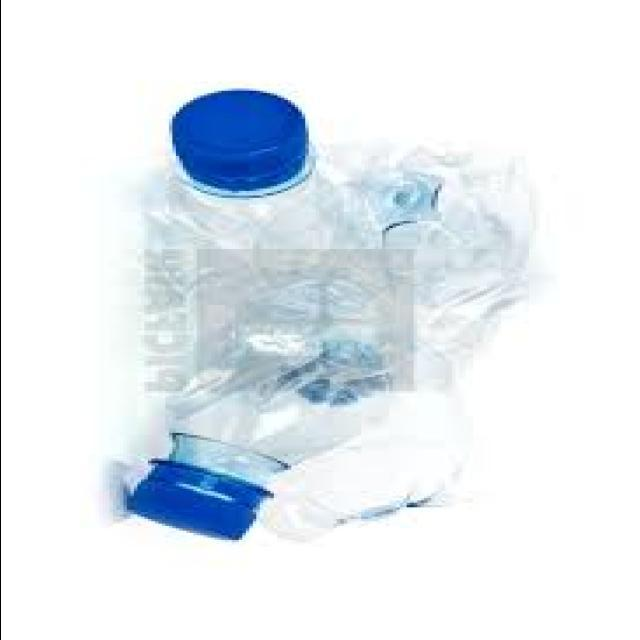defected: (123, 75, 566, 326), (102, 320, 558, 550)
